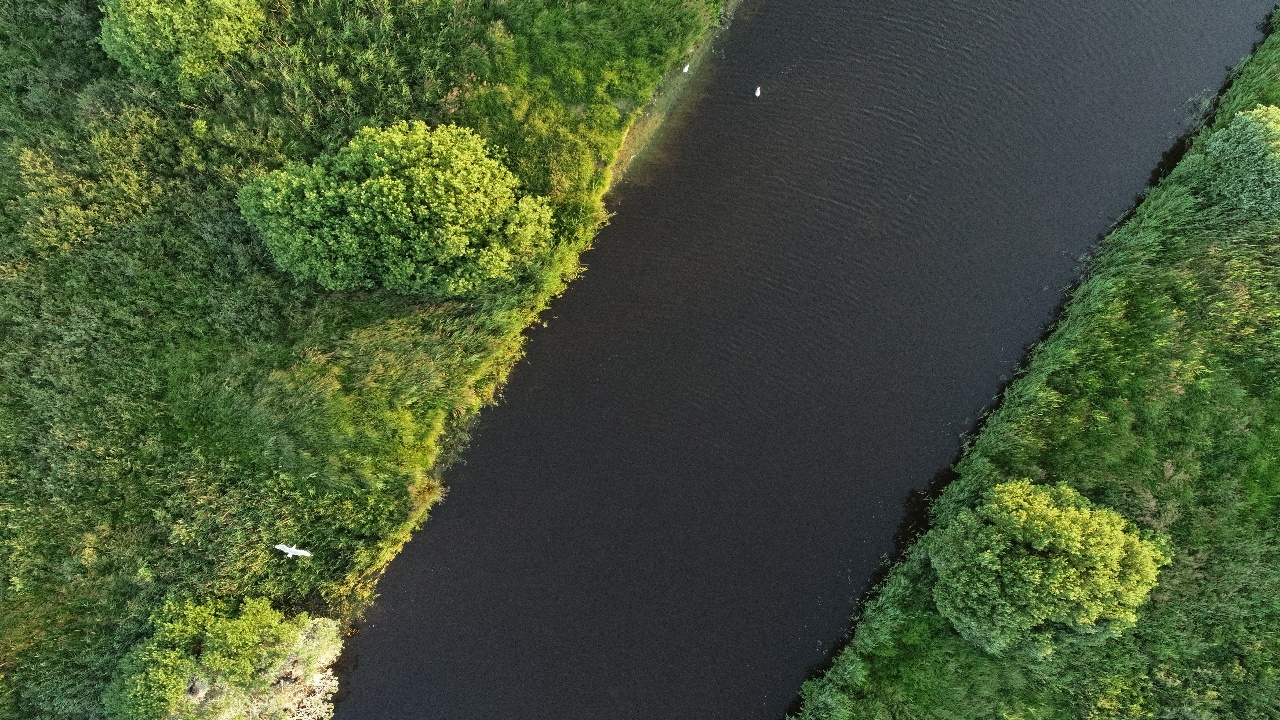Bird: (267, 528, 317, 571), (736, 73, 778, 110), (670, 48, 712, 85)
